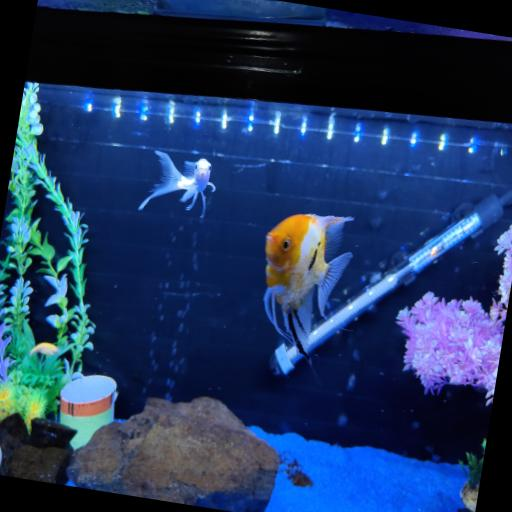Fish: (264, 214, 352, 361), (138, 151, 215, 217), (29, 342, 59, 355)
